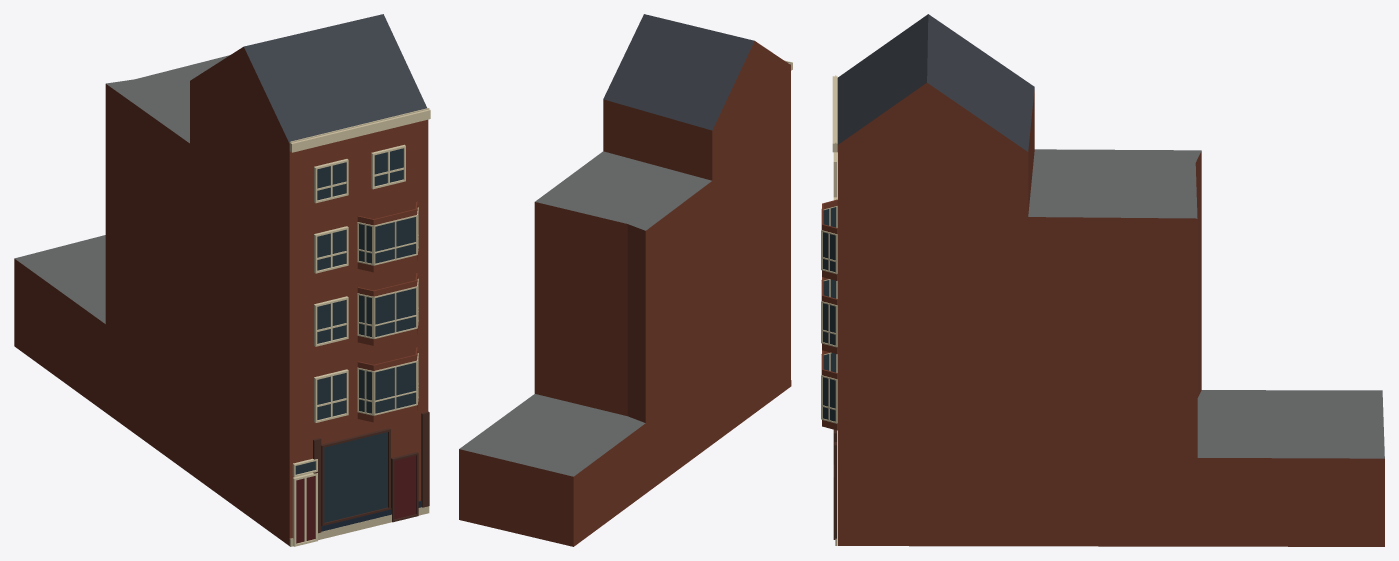
File: recipe-bilder-090492.glb
3 renders of one model, left to right at view 1: azimuth 30°, elevation 25°; view 2: azimuth 150°, elevation 25°; view 3: azimuth 270°, elevation 25°, orthographic. The views are drawn at different scales.
Visible parts, largest first — view 1: bilder-090492; view 2: bilder-090492; view 3: bilder-090492.
Part boxes in pixels (x1,y1,x2,y2): bilder-090492: [14, 14, 430, 546]; bilder-090492: [459, 14, 792, 546]; bilder-090492: [821, 14, 1384, 546].
Bounding box in the file's own units: 5.91 × 18.53 × 20.38.
